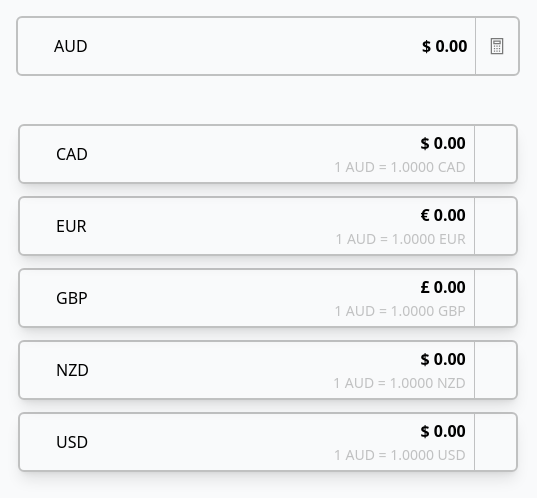
Test: testing for the home page › On the page, if change the input value of AUD and click calculator button, the value of other currency will change to the correct rate according to the exchange
Expected: the 2nd field with test id "currencyDisplay" holds "$ 0.00", [221,131,466,155]
Expected: the 5th field with test id "currencyDisplay" holds "$ 0.00", [221,347,466,371]
Replace the text in the field with test id "currencyInput" with "$ 1.00" at (345, 46), box [222,34,467,58]
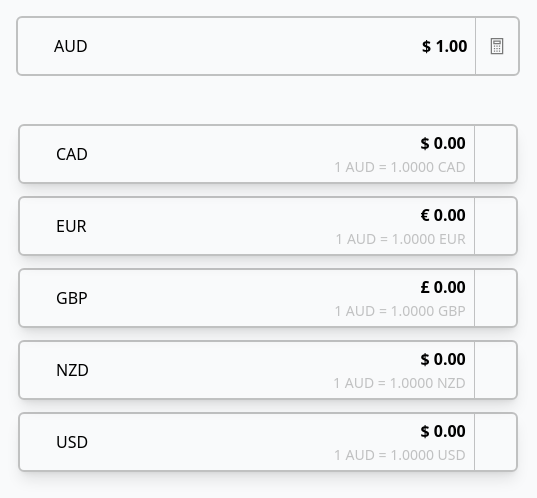
Click the button at (497, 46), box [487,36,507,56]
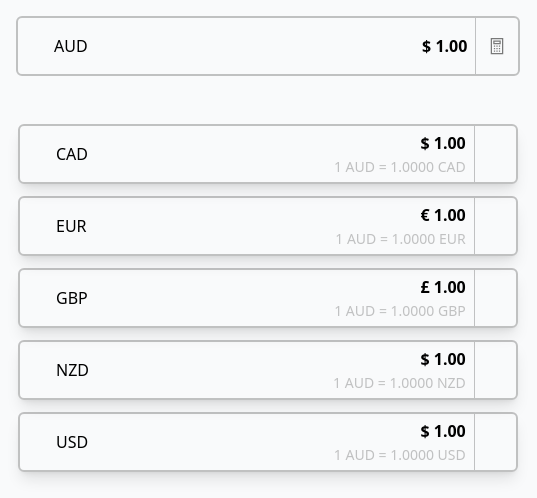
Now the 2nd field with test id "currencyDisplay" holds "$ 1.00", box [221,131,466,155]
Now the 5th field with test id "currencyDisplay" holds "$ 1.00", box [221,347,466,371]
Now the 6th field with test id "currencyDisplay" holds "$ 1.00", box [221,419,466,443]
